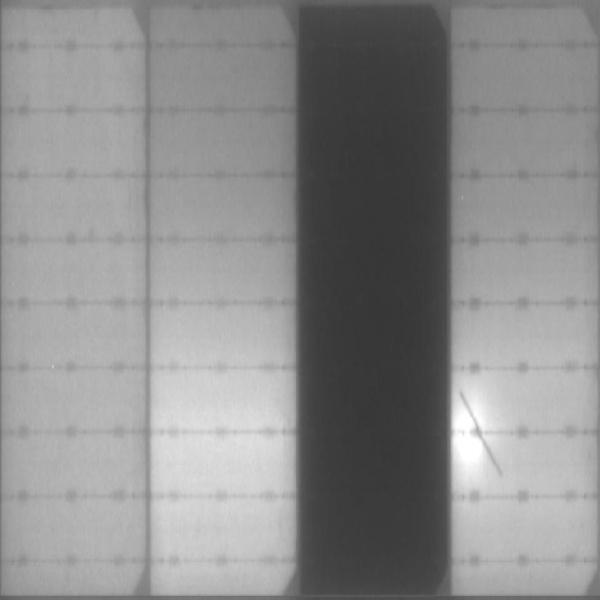hot_spot: (454, 436, 480, 468), (456, 418, 471, 432)
no_electricity: (298, 1, 449, 592)
